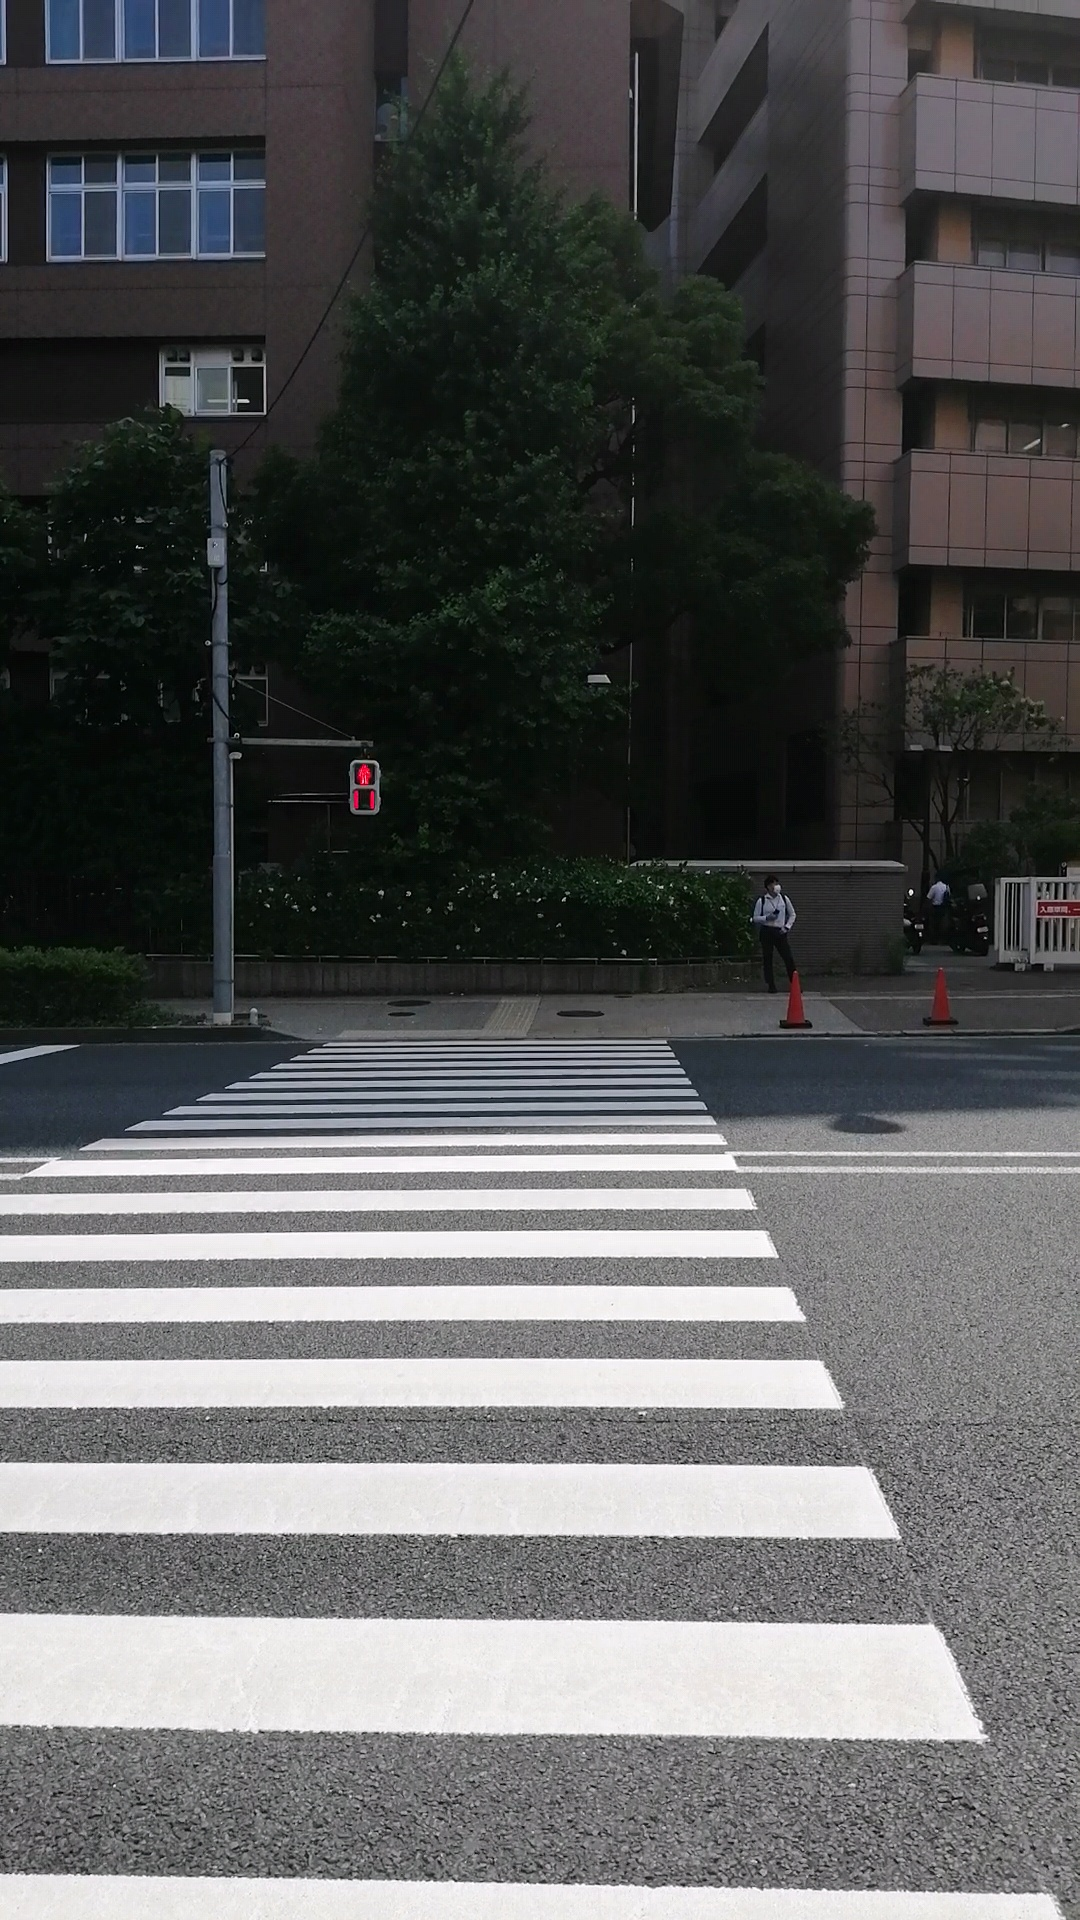red: (347, 756, 381, 815)
